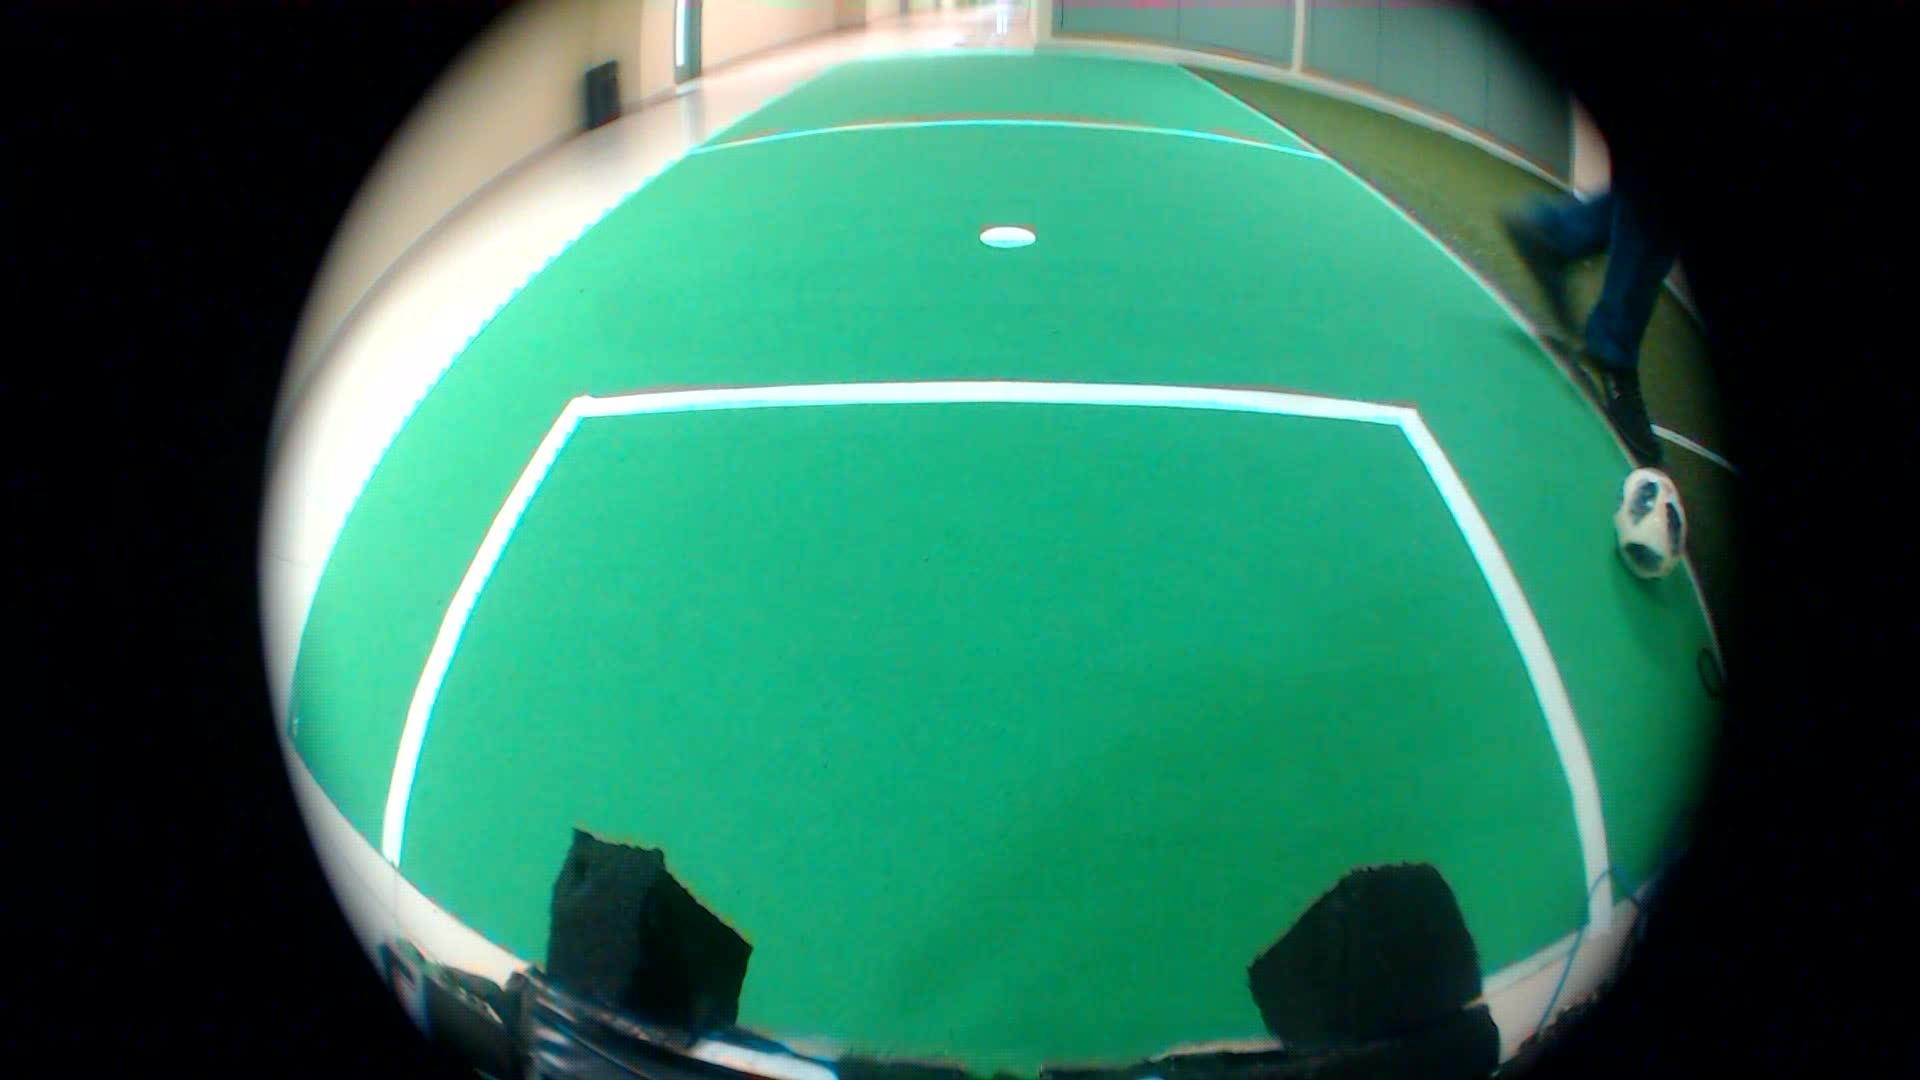ball: (1578, 442, 1695, 593)
